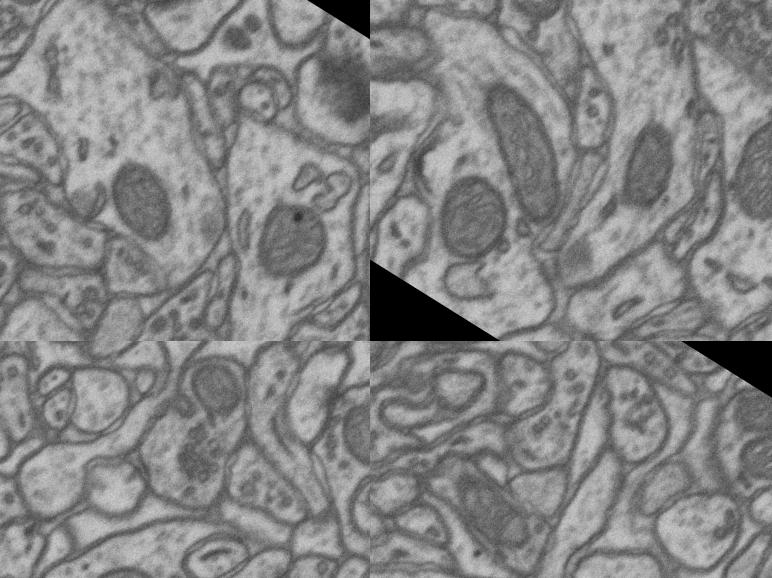mitochondria: (432, 61, 610, 234), (228, 184, 354, 315), (411, 155, 534, 282), (82, 147, 203, 266), (592, 105, 704, 228), (433, 457, 552, 564), (174, 363, 273, 460), (708, 95, 772, 242), (51, 536, 187, 578), (324, 395, 370, 492), (722, 382, 772, 458), (727, 416, 772, 499), (482, 0, 583, 35), (260, 317, 364, 341), (0, 0, 83, 28), (370, 341, 397, 398)
